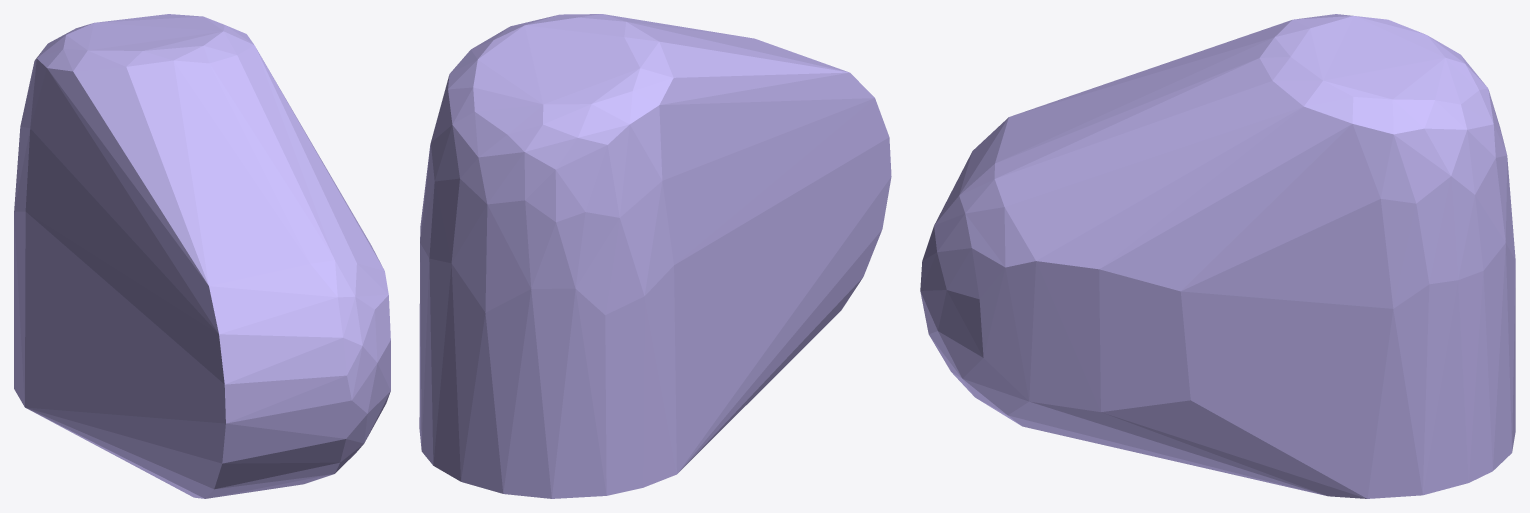
File: Panda_link6_respondable_coll_1.dae
The picture shows the model from 3 angles, left to right: view 1: azimuth 30°, elevation 25°; view 2: azimuth 150°, elevation 25°; view 3: azimuth 270°, elevation 25°; orthographic projection. The views are drawn at different scales.
Parts seen in each view (by area): view 1: Node_0x7f9e89c611b0; view 2: Node_0x7f9e89c611b0; view 3: Node_0x7f9e89c611b0.
Boxes of the visible parts, x1,y1,x2,y2 form: Node_0x7f9e89c611b0: (14, 14, 390, 498); Node_0x7f9e89c611b0: (419, 14, 891, 498); Node_0x7f9e89c611b0: (920, 14, 1515, 498).
Bounding box in the file's own units: 0.0883 × 0.1331 × 0.1822.
